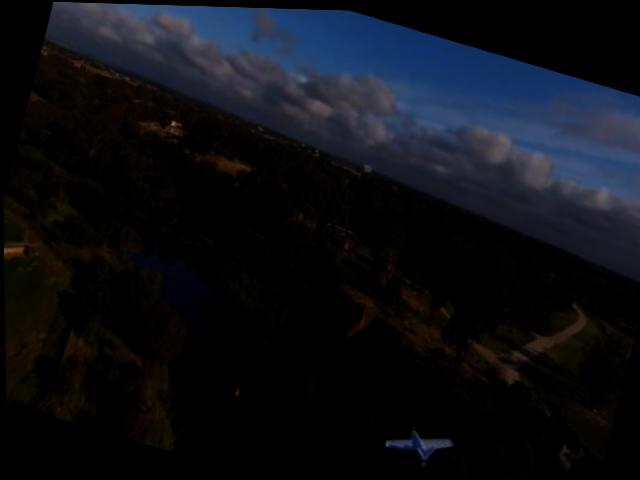uav: (377, 415, 455, 474)
